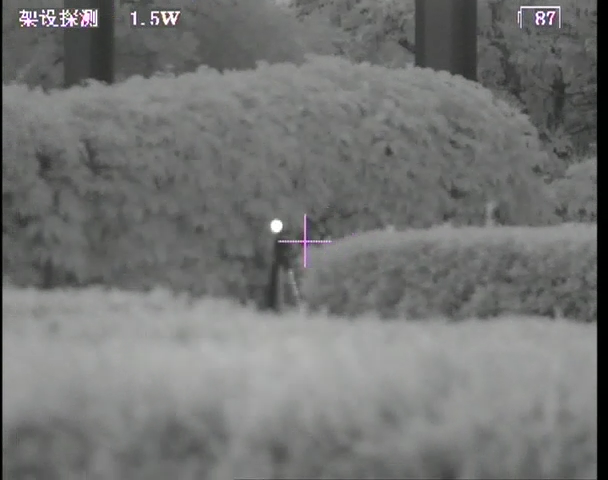my: (269, 217, 284, 235)
